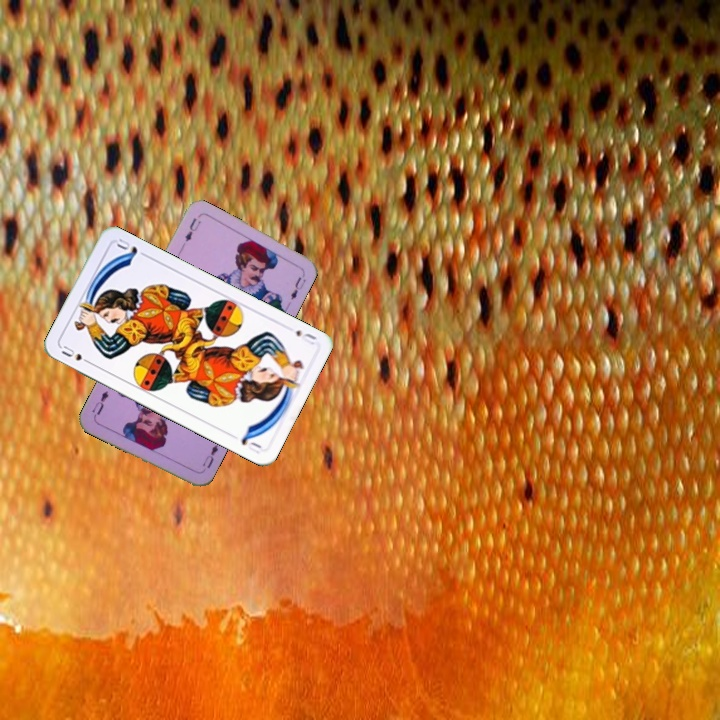EU: (198, 437, 223, 471), (181, 214, 203, 244)
SU: (57, 341, 95, 367), (292, 326, 319, 348)
